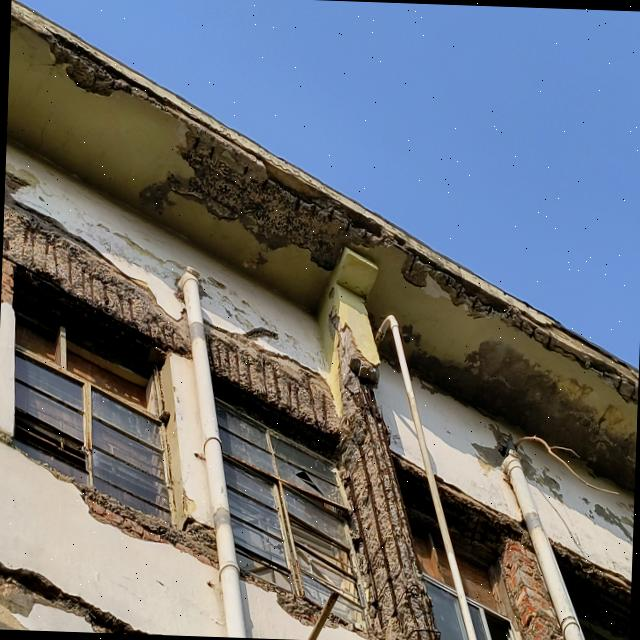Paint Peeling: (406, 333, 636, 489), (16, 189, 192, 290), (198, 261, 280, 331), (517, 444, 564, 502), (573, 502, 634, 542), (471, 423, 511, 467), (286, 339, 319, 368)
Spalling: (36, 28, 638, 402), (2, 162, 189, 354), (338, 327, 439, 640), (40, 464, 218, 570), (201, 308, 337, 437), (437, 478, 549, 600), (0, 562, 146, 634), (551, 540, 631, 640), (240, 569, 322, 626), (393, 453, 435, 542), (325, 613, 363, 636)
exposed brickwork: (488, 539, 564, 640)
